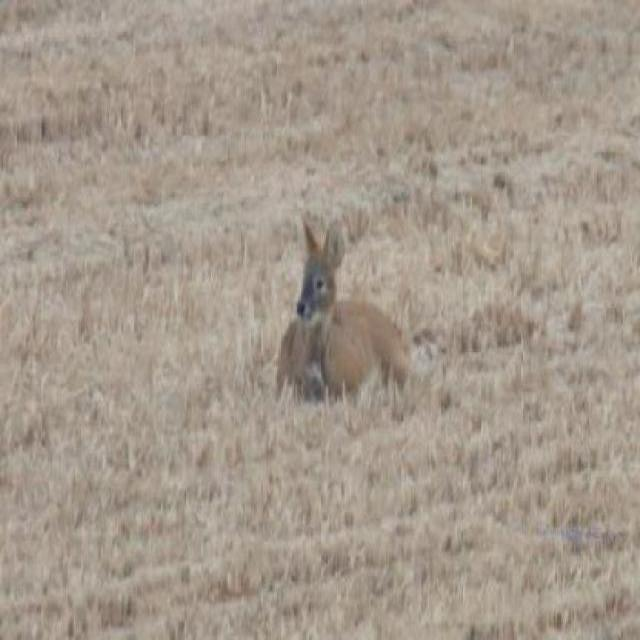deer: (271, 211, 417, 408)
